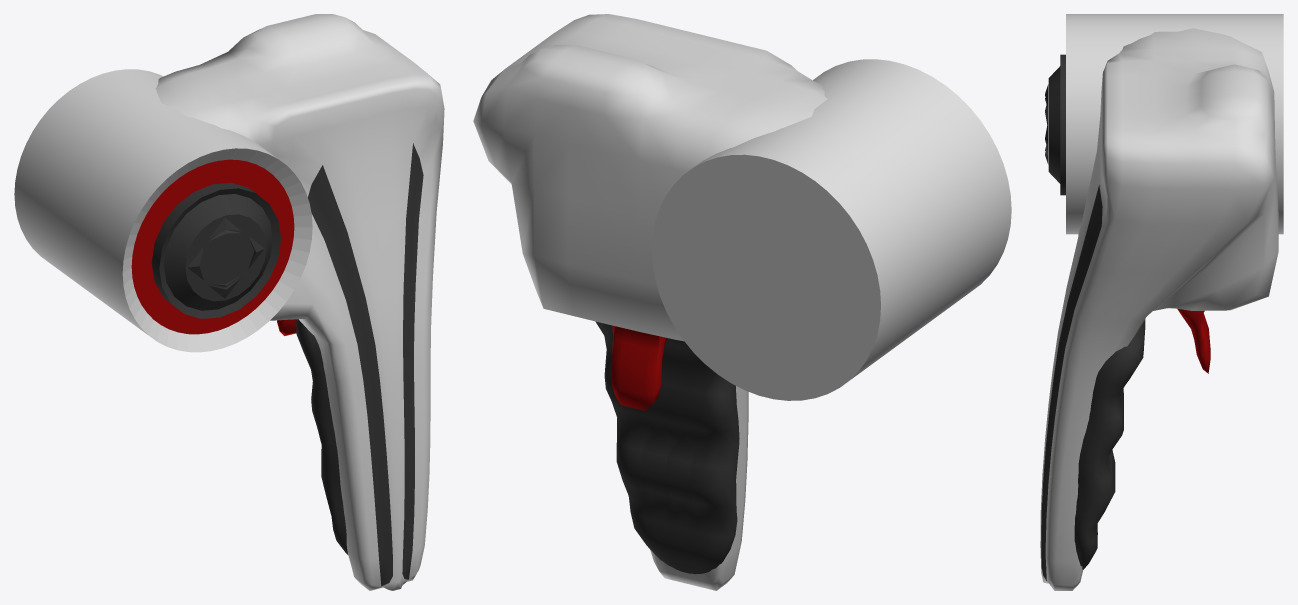
The model's file is right_swordfishjoy.fbx.
3 views of the same model, side by side, from view 1: azimuth 30°, elevation 25°; view 2: azimuth 150°, elevation 25°; view 3: azimuth 270°, elevation 25° (orthographic). The views are drawn at different scales.
Visible parts, largest first — view 1: polySurface3, pCylinder3, pPyramid27, polySurface4; view 2: pCylinder3, polySurface3, polySurface4, pCube3; view 3: polySurface3, pCylinder3, polySurface4, pPyramid27, pCube3.
Part boxes in pixels (x1,y1,x2,y2): polySurface3: (155,14,444,590); pCylinder3: (14,69,312,352); pPyramid27: (151,183,281,318); polySurface4: (296,319,348,554); pCylinder3: (652,59,1011,400); polySurface3: (473,14,827,590); polySurface4: (595,321,739,574); pCube3: (611,325,666,410); polySurface3: (1040,28,1278,590); pCylinder3: (1066,14,1283,234); polySurface4: (1074,319,1145,569); pPyramid27: (1045,54,1065,195); pCube3: (1177,308,1210,373).
Size of the model in its own units: 1.08 by 1.45 by 0.6422.
